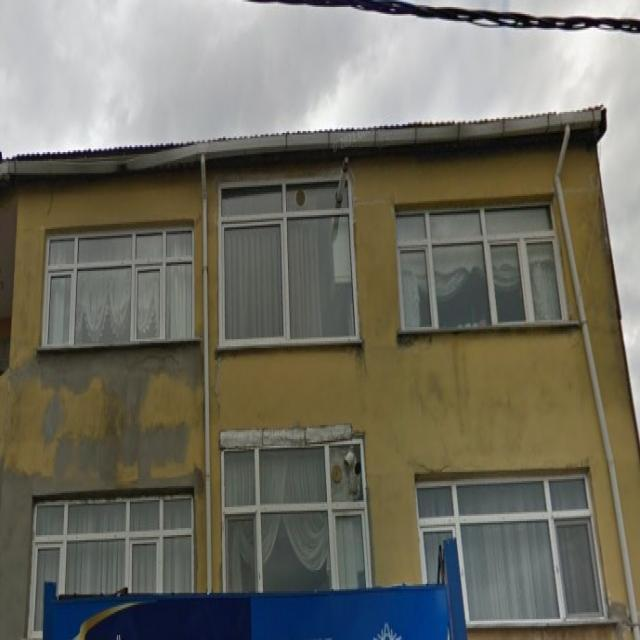Building: (0, 106, 640, 640)
